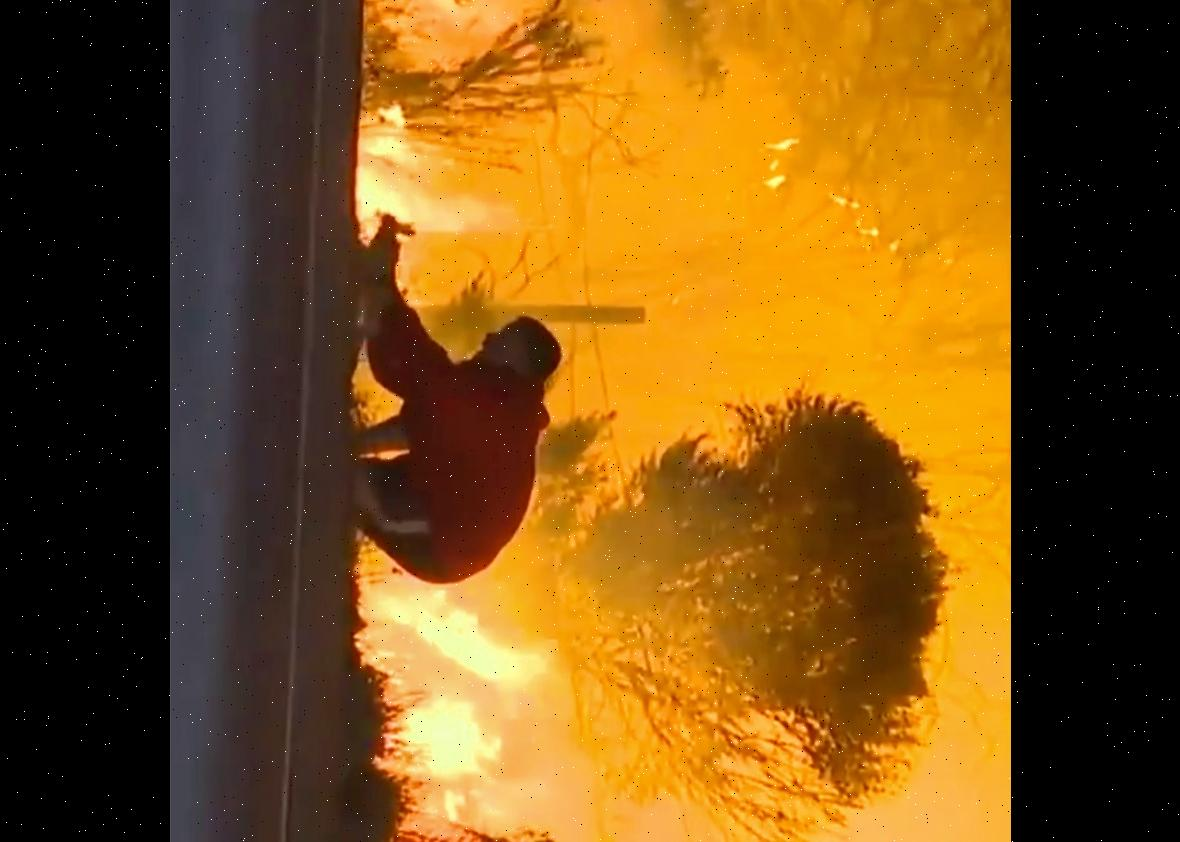fire: (347, 582, 646, 842), (343, 0, 574, 218)
